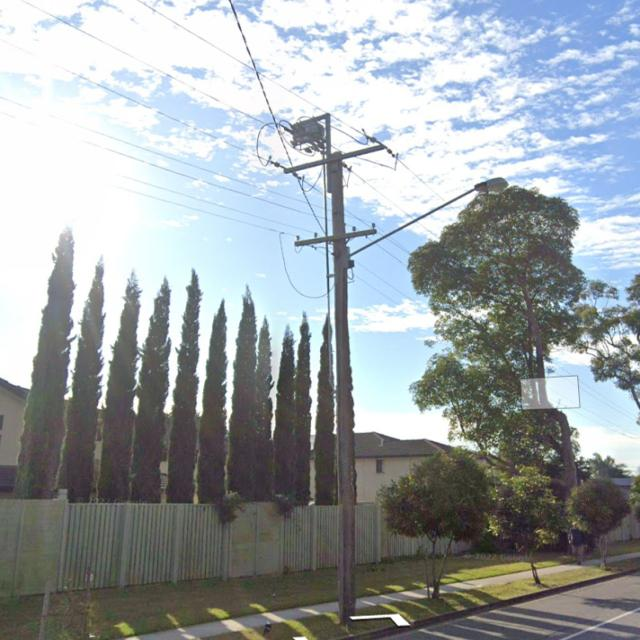HV-switch: (283, 112, 331, 154)
HV-transmission: (268, 133, 398, 180)
crossarm: (283, 144, 385, 174), (294, 227, 378, 247)
streetlight: (347, 177, 508, 258)
timber-pole: (329, 149, 356, 627)
